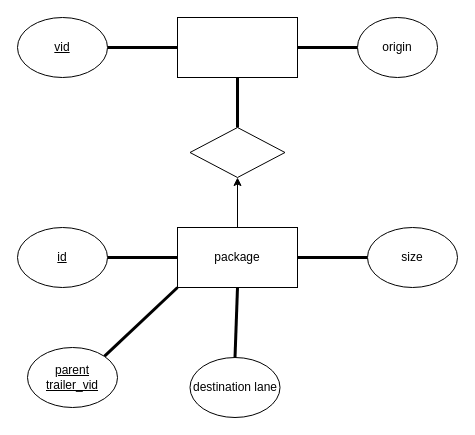
The diagram is 475 pixels wide and 435 high, and some of its shapes have lost their labels. The shapes that lost their labels are listed below. From the top down, each one's centre as x and y in pixels, then its label:
pixel 237 47: trailer
pixel 237 152: has
